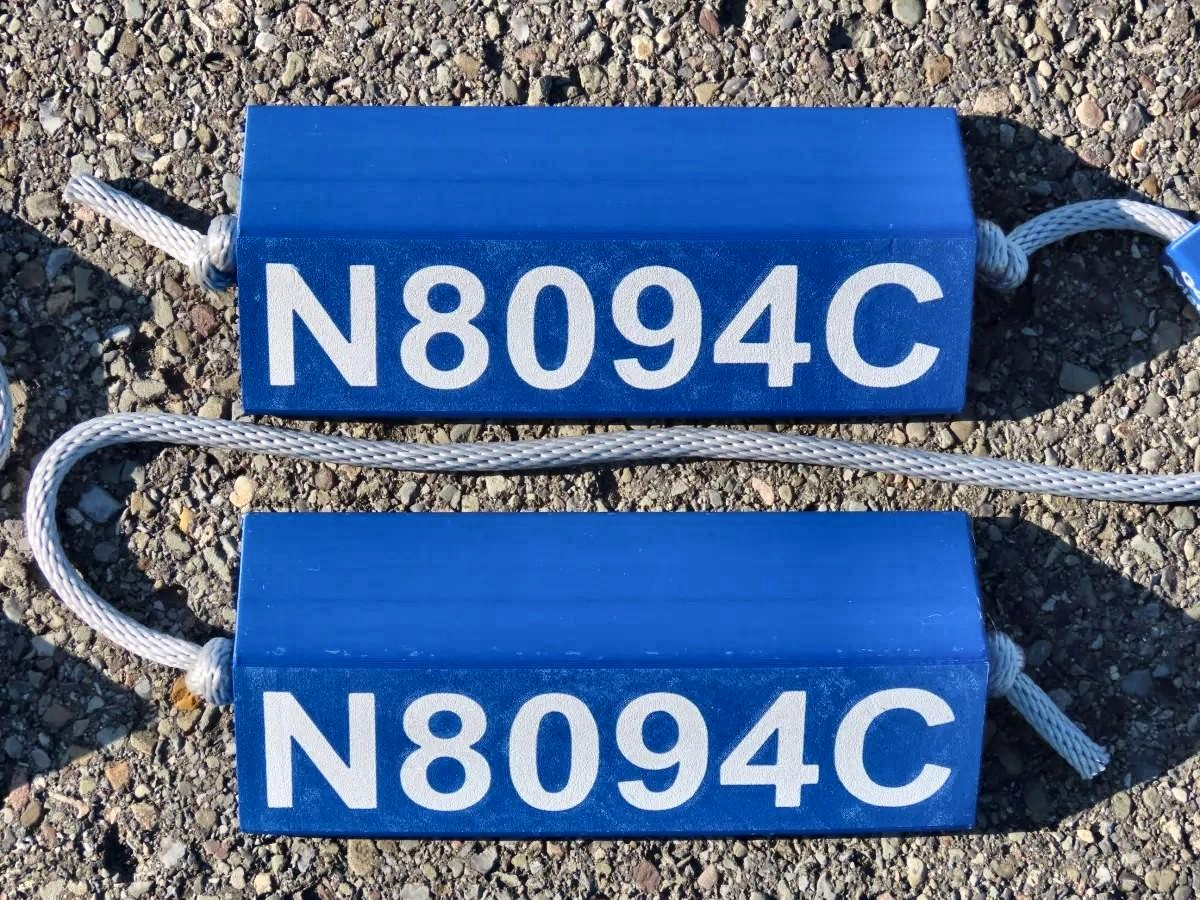chock: (229, 500, 988, 839), (231, 95, 971, 420)
